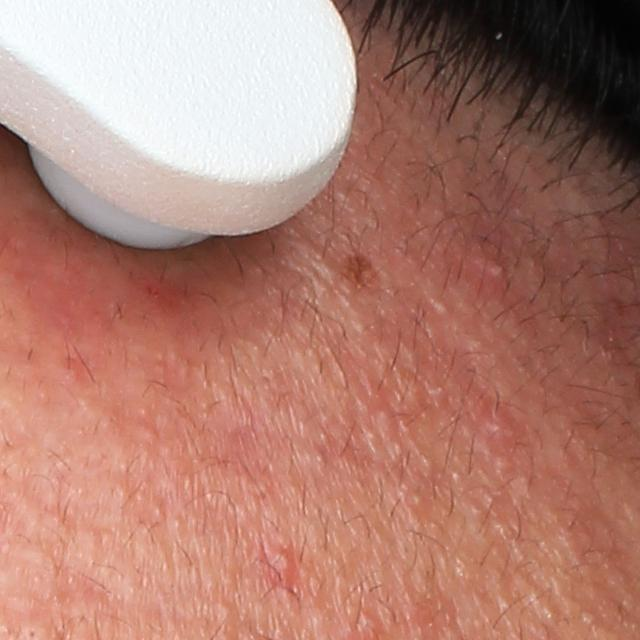comedo: (217, 601, 236, 623)
nevus: (333, 252, 385, 296)
papule: (471, 393, 535, 455), (463, 247, 509, 301), (262, 549, 300, 593), (356, 610, 384, 638)
